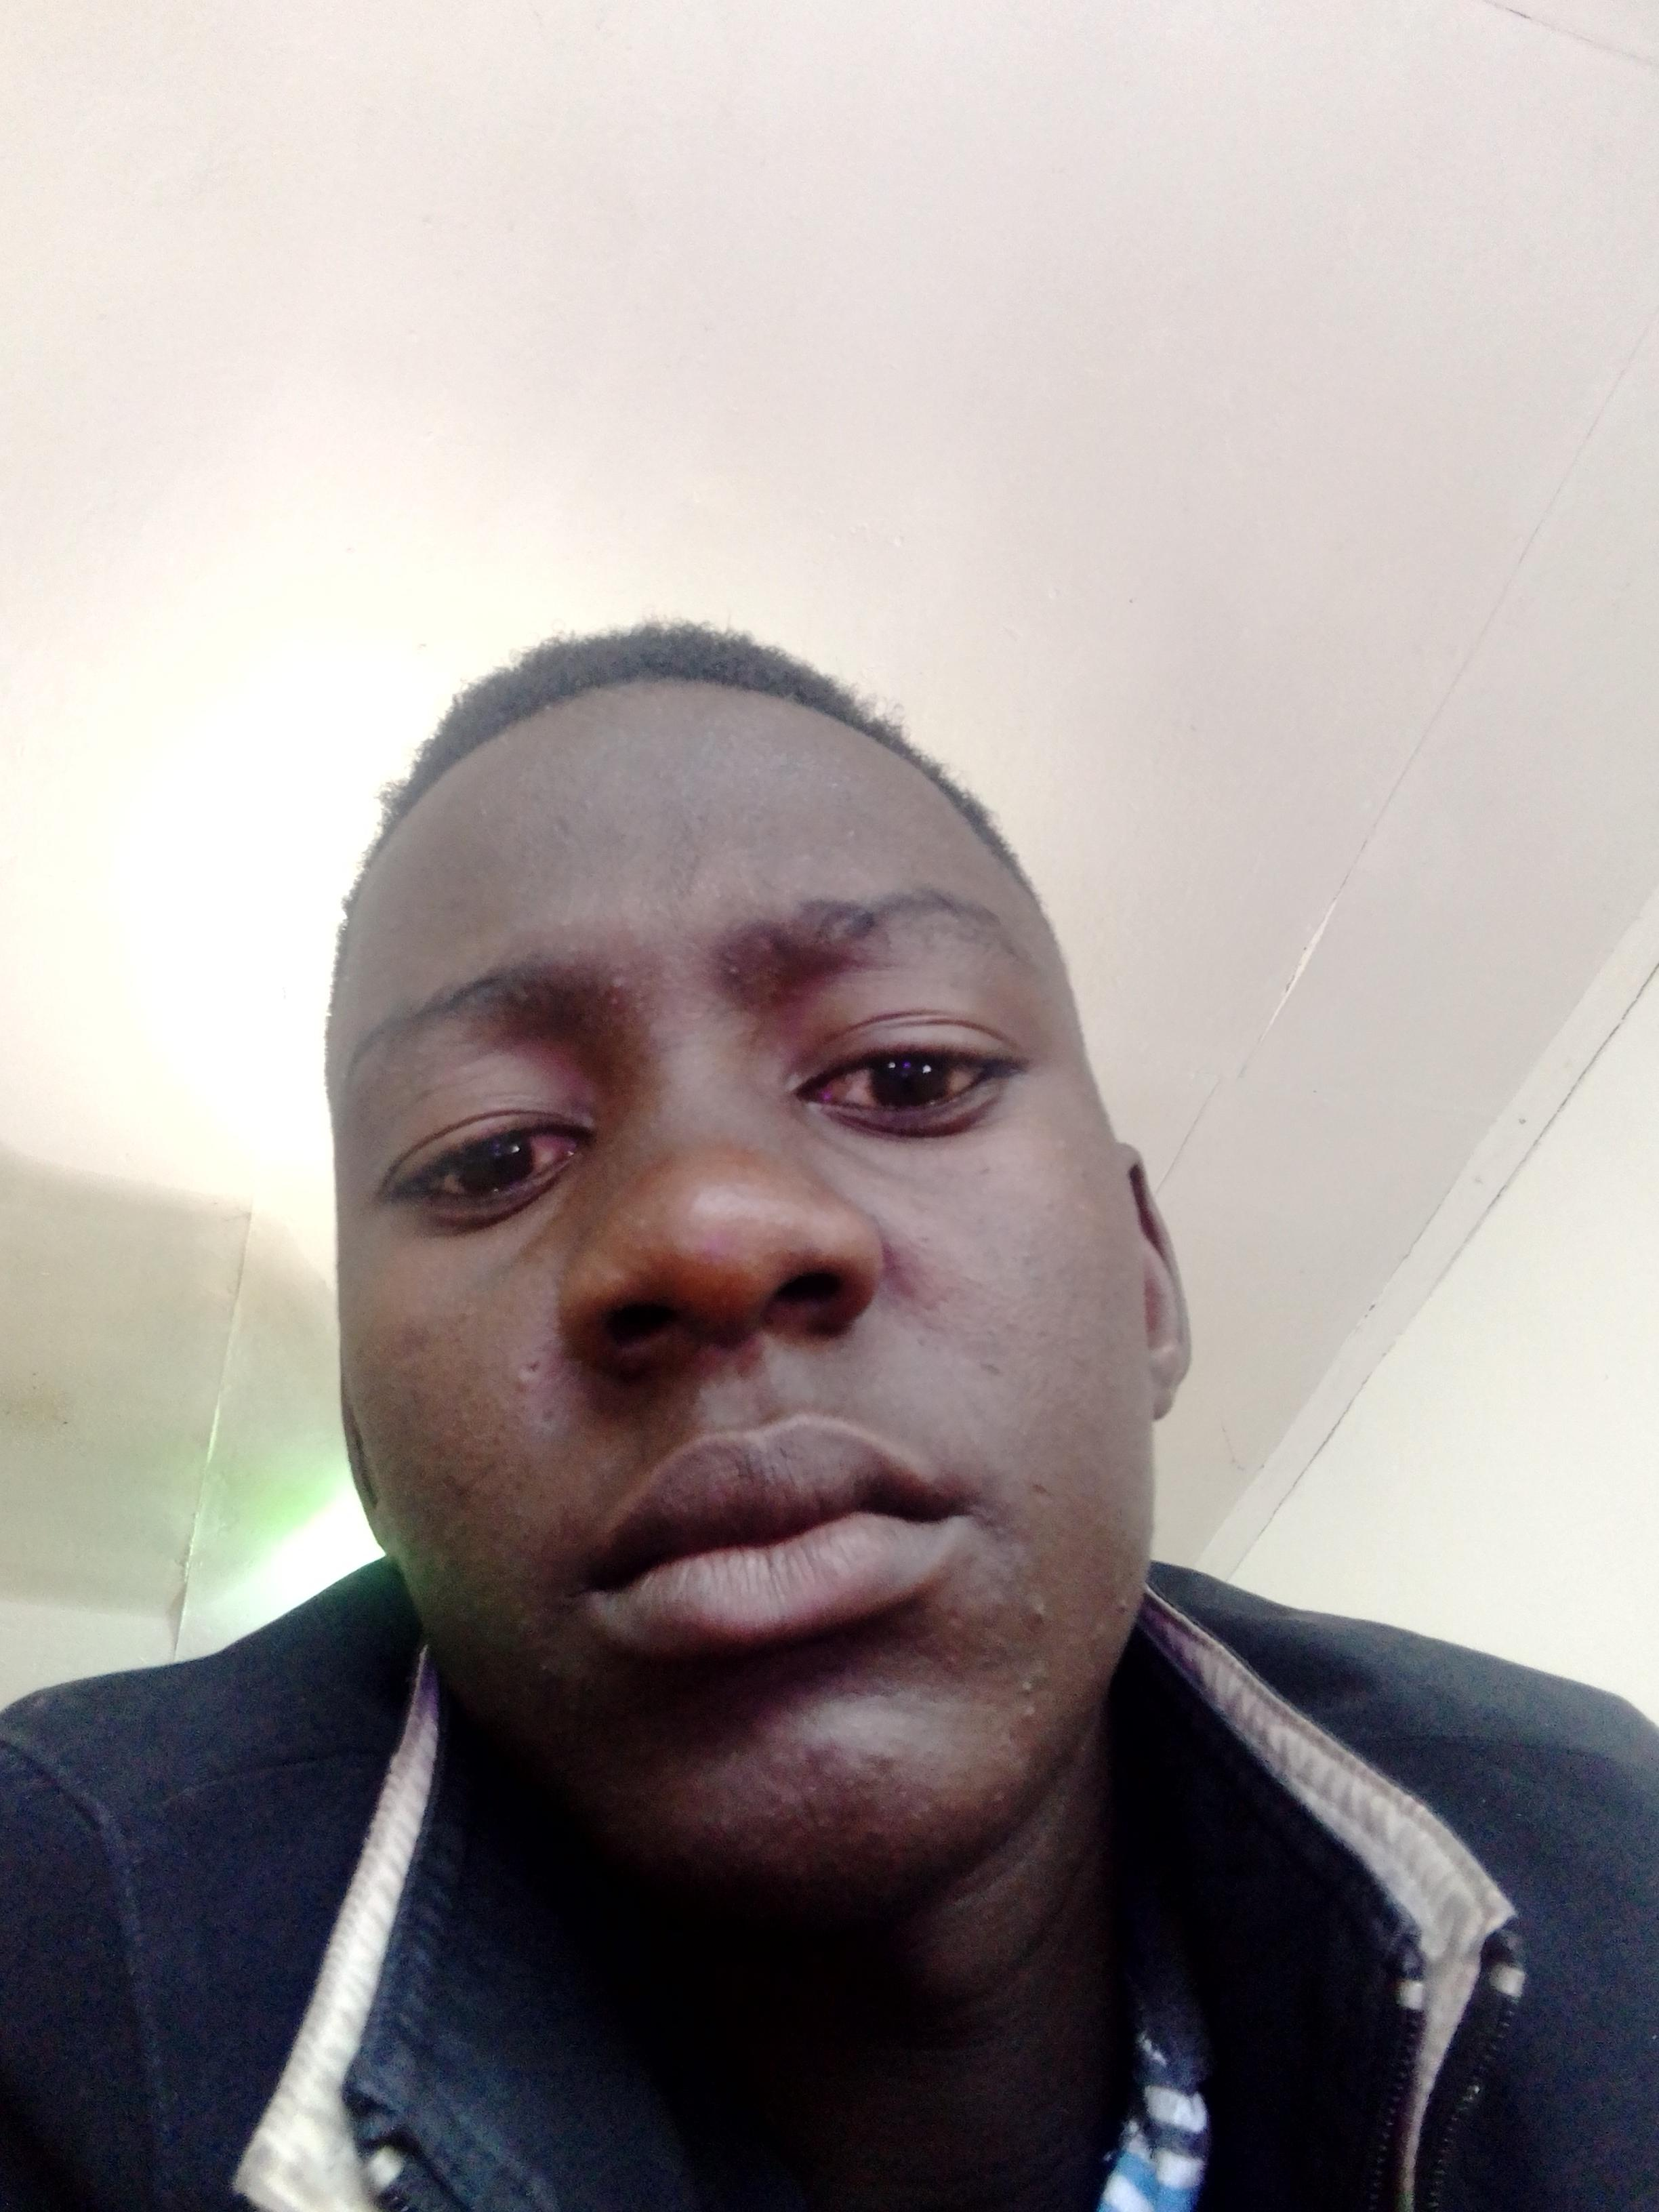Acne: (1080, 1595, 1133, 1641), (861, 1743, 903, 1787), (1014, 1679, 1040, 1726), (512, 1357, 540, 1393), (598, 968, 627, 1000), (1025, 1590, 1047, 1630), (1019, 1245, 1040, 1284)
